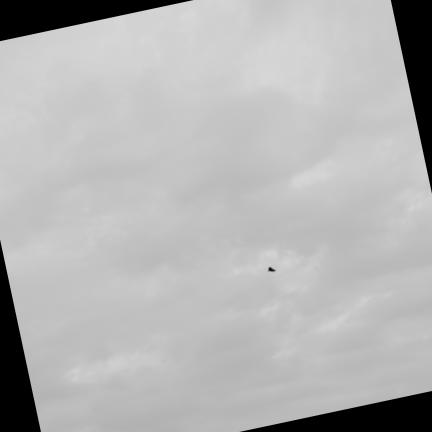Shahed: (269, 267, 275, 271)
